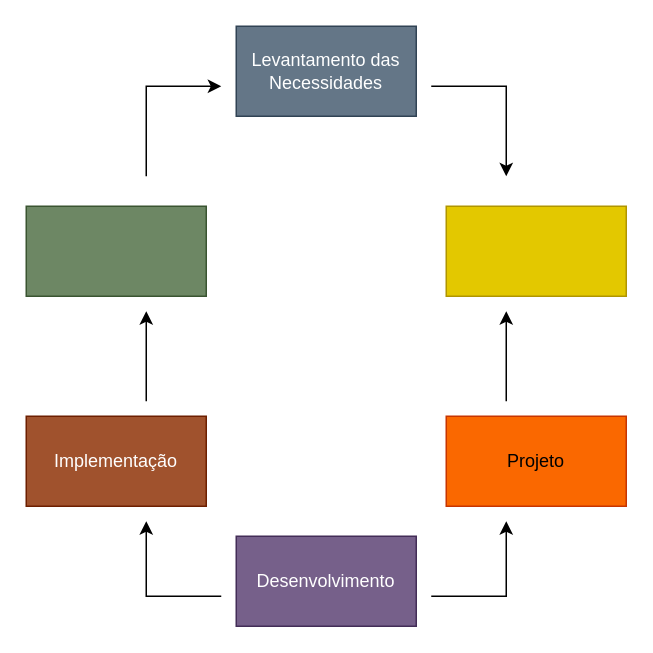
This 653x653 diagram has some shape labels left out. Each missing label, with the centre of its shape:
"Analise Alternativas" belongs at point (535, 250).
"Manutenção" belongs at point (115, 250).
